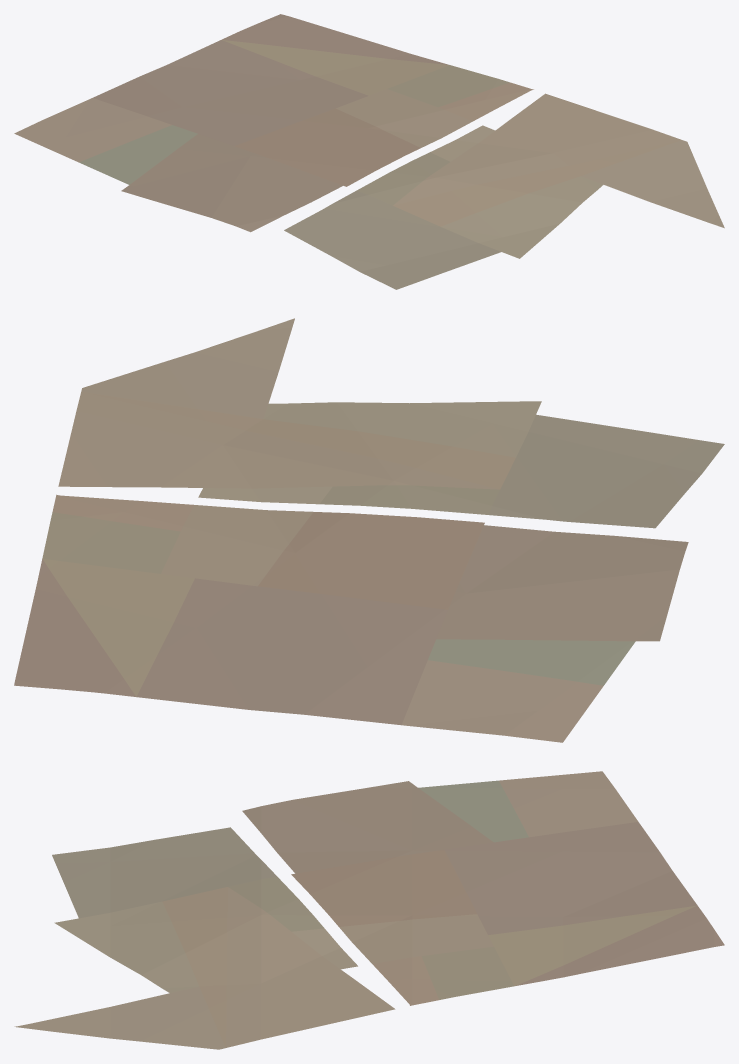
Rendered from farm_-24_-24_soil.glb.
The picture shows the model from 3 angles, top to bottom: view 1: azimuth 30°, elevation 25°; view 2: azimuth 150°, elevation 25°; view 3: azimuth 270°, elevation 25°; orthographic projection. The views are drawn at different scales.
Parts seen in each view (by area): view 1: geometry_0; view 2: geometry_0; view 3: geometry_0.
Boxes of the visible parts, box(x1,y1,x2,y2) form: geometry_0: box(14, 14, 724, 289); geometry_0: box(14, 318, 724, 742); geometry_0: box(14, 771, 724, 1049).
Size of the model in its own units: 342 by 9.01 by 377.
